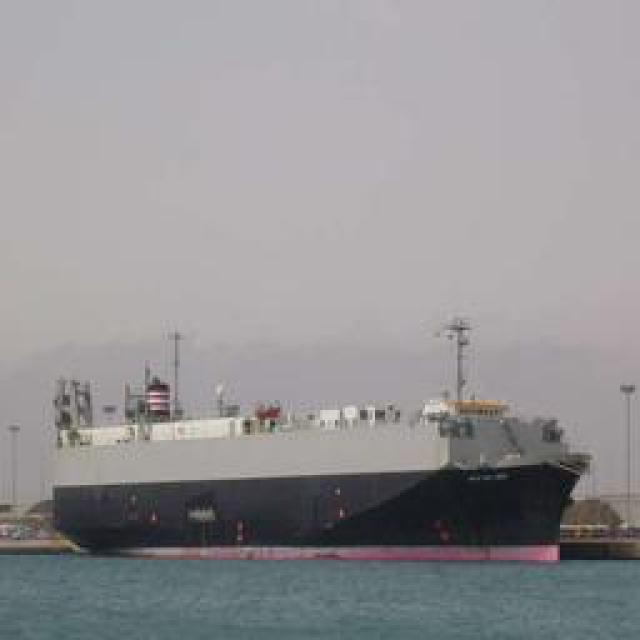Ship: (50, 334, 605, 554)
